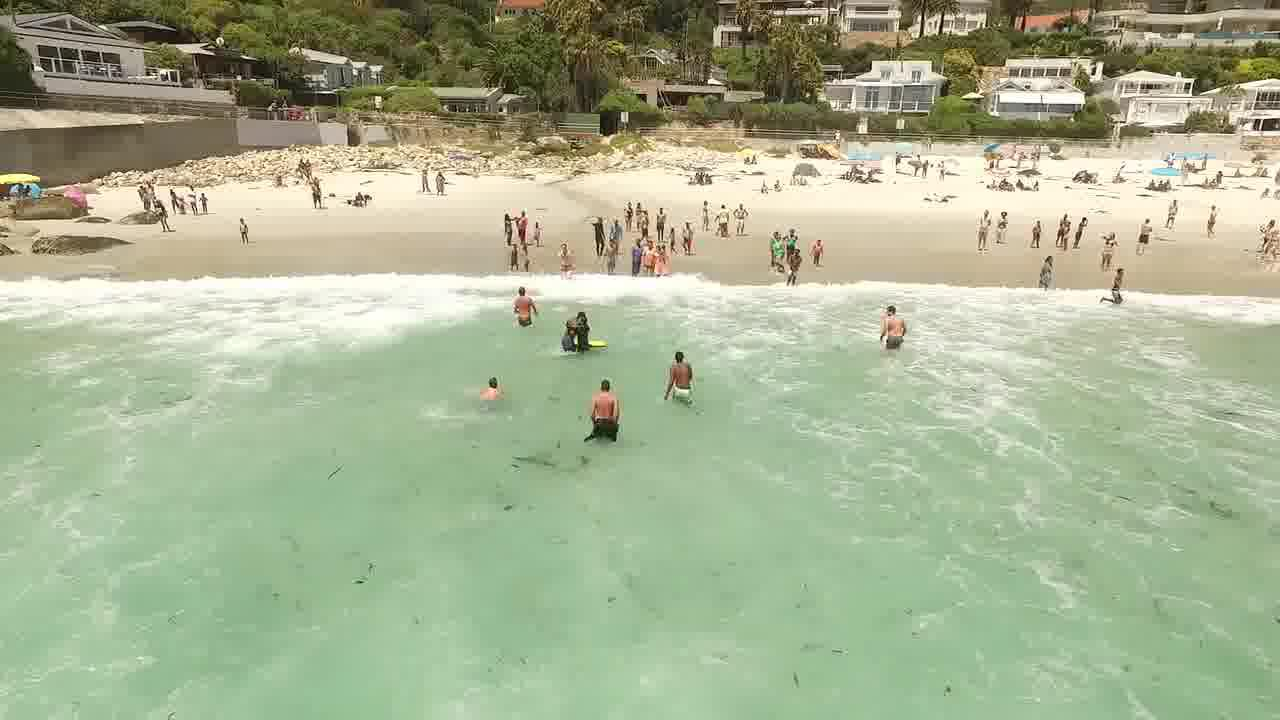swimmer: (664, 341, 704, 402), (584, 370, 623, 428), (878, 302, 913, 355), (504, 272, 530, 332), (468, 360, 506, 401), (1031, 243, 1060, 291), (1105, 267, 1135, 312), (574, 308, 596, 359), (560, 306, 572, 359)
